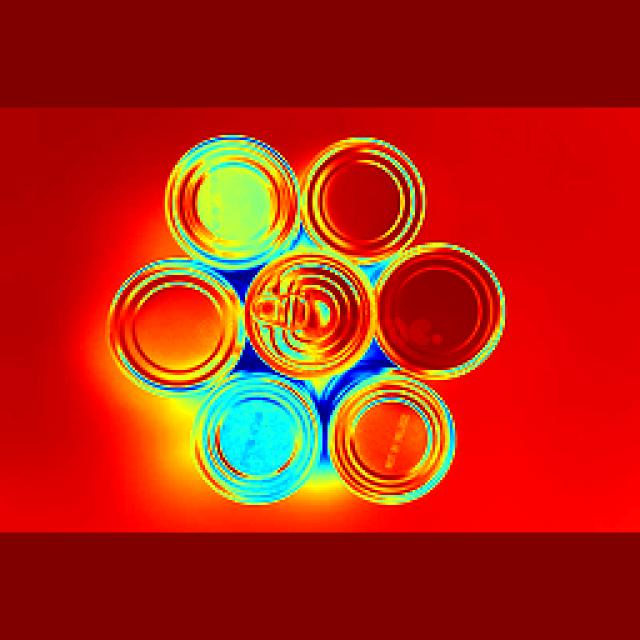Aluminium Food Cans: (102, 261, 241, 394), (379, 242, 511, 374), (240, 250, 368, 384), (327, 381, 464, 504), (164, 136, 296, 262), (198, 372, 316, 512), (300, 140, 416, 267)
